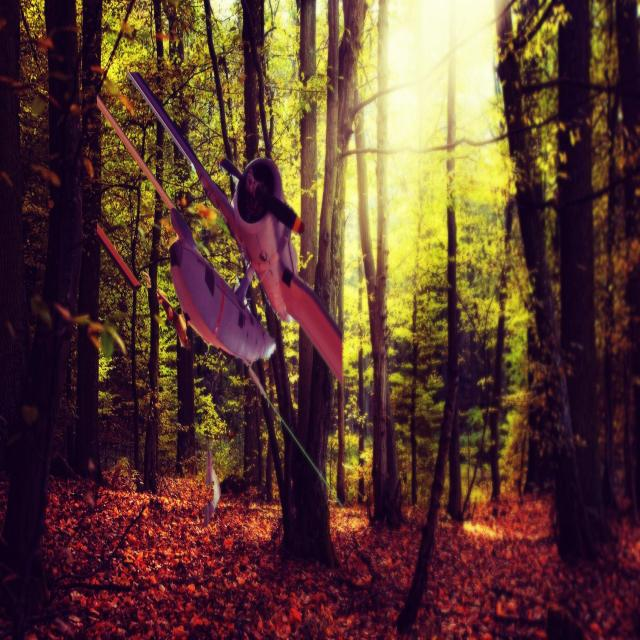airplane: (95, 69, 344, 387)
